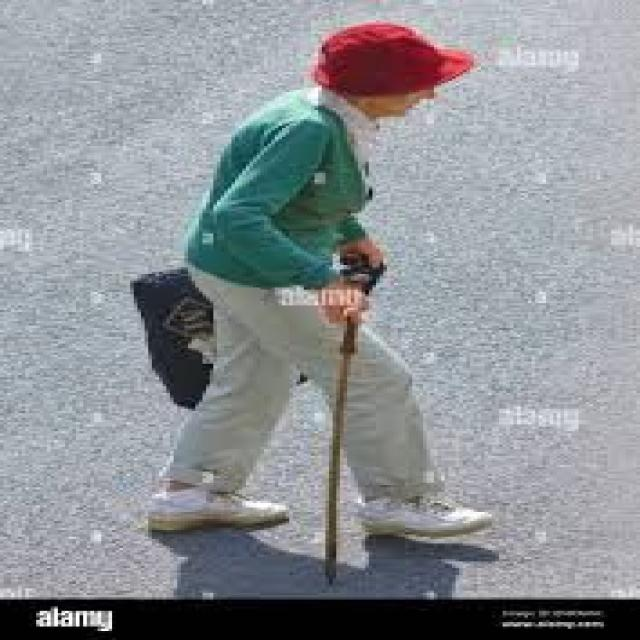idoso em pe: (152, 17, 510, 540)
